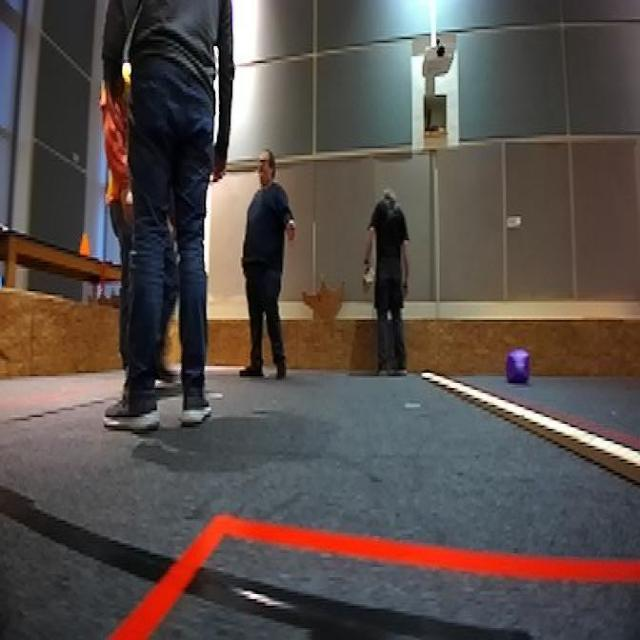frc_cube: (505, 352, 533, 388)
